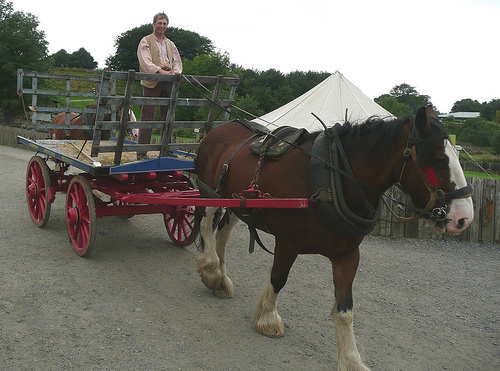horse: (191, 106, 472, 368), (48, 92, 142, 144)
